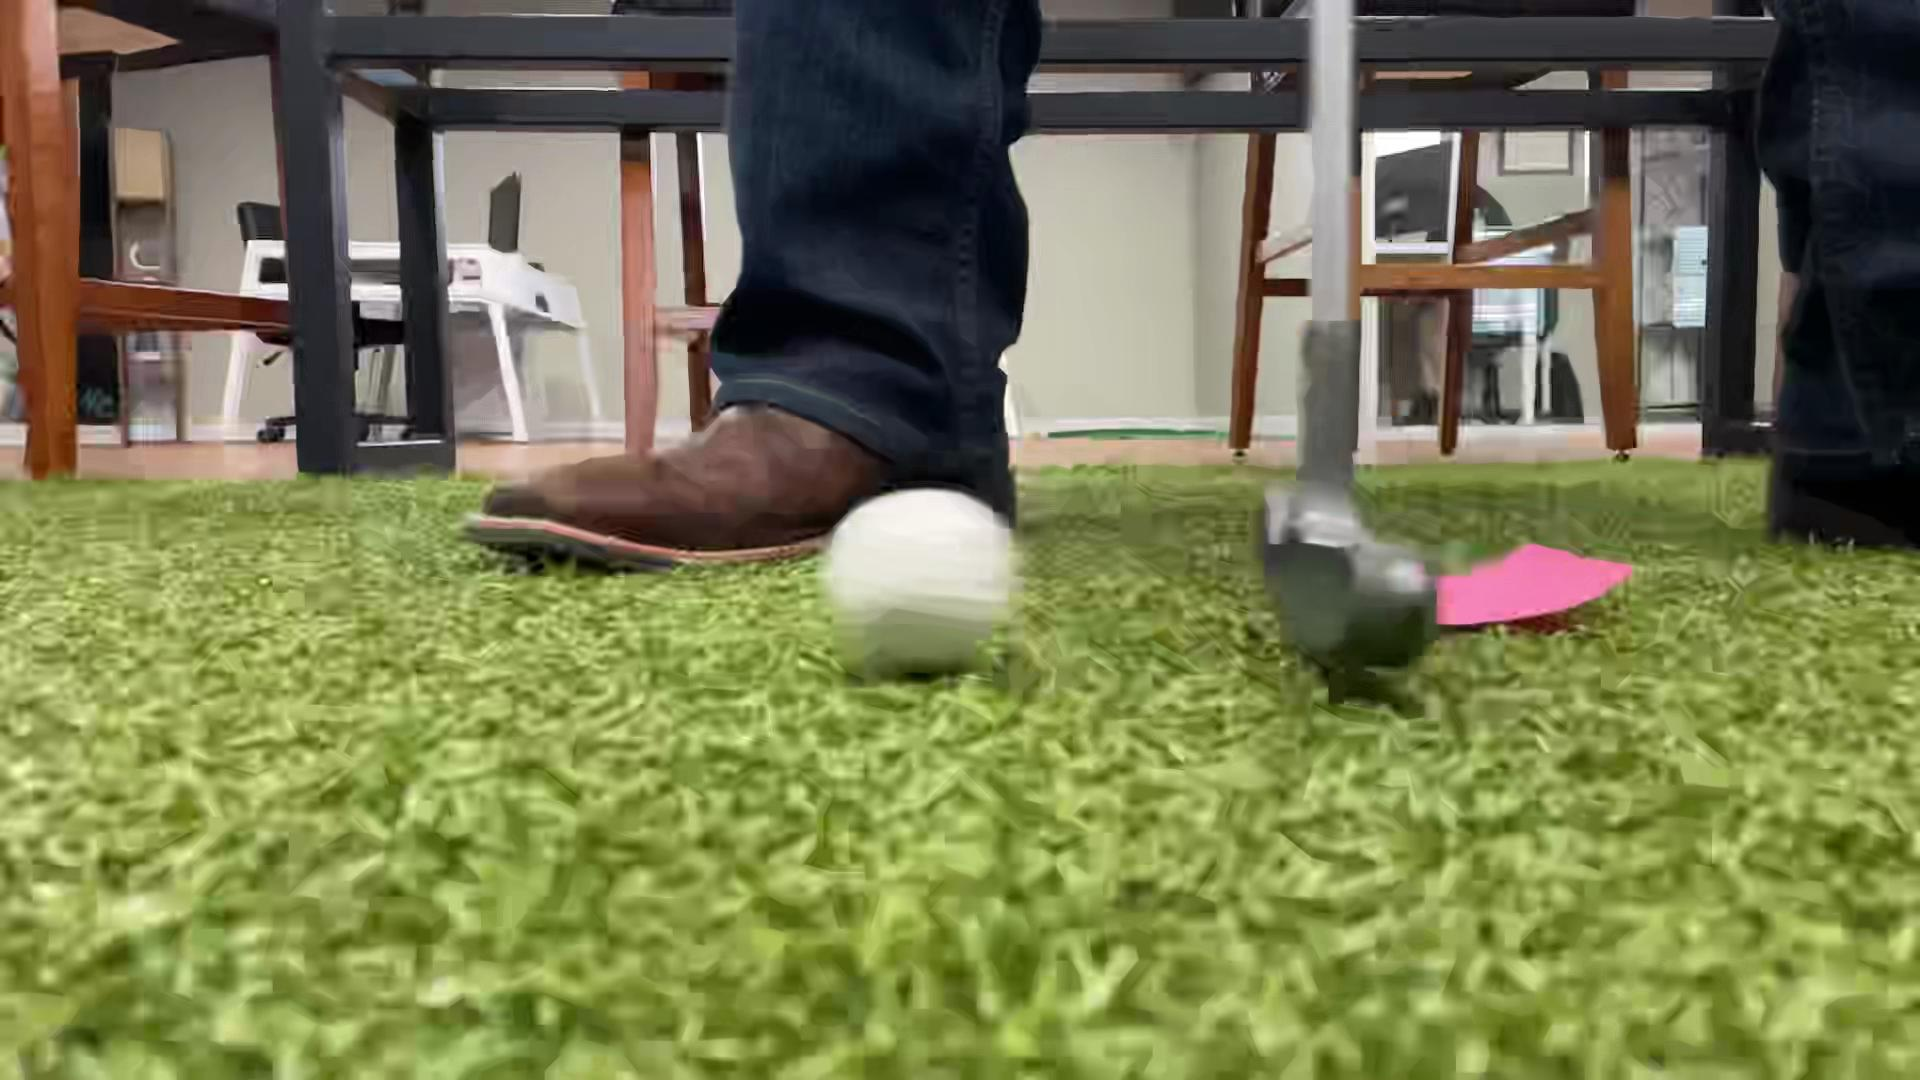golfball: (823, 490, 1018, 677)
